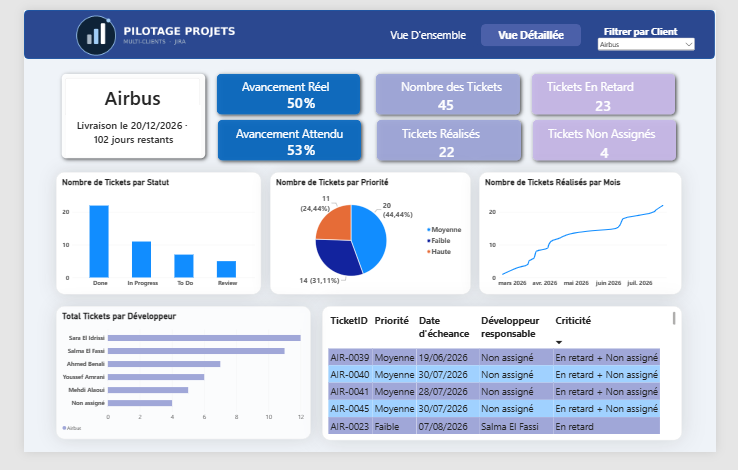

The page's visual inventory and layout, read from the dashboard file:
{"tool":"powerbi","page":{"name":"Vue Détaillée","canvas":[1920,1230],"ordinal":1},"visuals":[{"type":"textbox","box":[1611.9,19,283.3,50],"z":0},{"type":"shape","box":[0,0,1919.4,136.1],"z":1000},{"type":"image","box":[0,2.4,736.1,136.1],"z":2000},{"type":"pageNavigator","box":[982.5,40,565,62.5],"z":3000},{"type":"slicer","fields":{"Values":["Clients.NomClient"]},"box":[1588.1,71.4,278.6,64.3],"z":4000},{"type":"textbox","box":[1611.9,40.5,254.8,45.2],"z":5000},{"type":"shape","box":[88.9,161.1,430.6,266.7],"z":6000},{"type":"card","fields":{"Values":["Min(Clients.NomClient)"]},"box":[113.9,188.9,375,105.4],"z":7000},{"type":"card","fields":{"Values":["Clients.TexteInfoClient"]},"box":[116.7,263.9,375,144.6],"z":8000},{"type":"shape","box":[520,160,430,145],"z":9000},{"type":"shape","box":[960,160,432.5,145],"z":10000},{"type":"shape","box":[1395,160,430,145],"z":11000},{"type":"card","fields":{"Values":["Sum(Clients.AvancementReel)"]},"box":[705,227.5,92.5,62.5],"z":12000},{"type":"card","fields":{"Values":["Tickets.TotalTicketsClient"]},"box":[1077.5,232.5,187.5,62.5],"z":13000},{"type":"card","fields":{"Values":["Tickets.TicketsEnRetard"]},"box":[1517.5,232.5,185,62.5],"z":14000},{"type":"textbox","box":[777.5,232.5,97.5,75],"z":15000},{"type":"textbox","box":[605,190,270,52.5],"z":16000},{"type":"textbox","box":[1047.5,190,307.5,52.5],"z":17000},{"type":"textbox","box":[1452.5,190,332.5,62.5],"z":18000},{"type":"columnChart","title":"Nombre de Tickets par Statut","fields":{"Category":["Tickets.Statut"],"Y":["Tickets.TotalTicketsClient"]},"box":[90,450,570,340],"z":19000},{"type":"shape","box":[522.5,290,430,145],"z":20000},{"type":"shape","box":[962.5,290,432.5,145],"z":21000},{"type":"shape","box":[1397.5,290,430,145],"z":22000},{"type":"card","fields":{"Values":["Sum(Clients.AvancementAttendu)"]},"box":[705,352.5,92.5,72.5],"z":23000},{"type":"card","fields":{"Values":["Tickets.TicketsRealises"]},"box":[1080,362.5,187.5,62.5],"z":24000},{"type":"card","fields":{"Values":["Tickets.TicketsNonAssignes"]},"box":[1520,362.5,185,62.5],"z":25000},{"type":"textbox","box":[587.5,320,310,52.5],"z":26000},{"type":"textbox","box":[1050,320,307.5,52.5],"z":27000},{"type":"textbox","box":[1455,320,332.5,62.5],"z":28000},{"type":"textbox","box":[777.5,362.5,97.5,75],"z":29000},{"type":"pieChart","title":"Nombre de Tickets par Priorité","fields":{"Category":["Tickets.Priorite"],"Y":["Tickets.TotalTicketsClient"]},"box":[682.5,450,557.5,340],"z":30000},{"type":"lineChart","title":"Nombre de Tickets Réalisés par Mois","fields":{"Category":["Tickets.DateCloture"],"Y":["Tickets.Total cumulé de TicketsClotesCumule dans DateCloture"]},"box":[1265,450,562.5,340],"z":31000},{"type":"tableEx","title":"Nombre de Tickets par Statut","fields":{"Values":["Tickets.TicketID","Tickets.Priorite","Tickets.DateEcheance","Tickets.NomDeveloppeurAffiche","Tickets.RaisonAction"]},"box":[827.5,822.5,1000,372.5],"z":32000},{"type":"barChart","title":"Total Tickets par Développeur","fields":{"Category":["Tickets.NomDeveloppeurAffiche"],"Series":["Clients.NomClient"],"Y":["Tickets.TotalTicketsClient"]},"box":[90,822.5,707.5,370],"z":33000}]}

Visuals, with their boxes in screenshot pixels (x1, y1, x2, y2), scaled from the page's 1920x1230 canvas onto the 738x470 screenshot:
textbox: (620, 7, 728, 26)
shape: (0, 0, 737, 52)
image: (0, 1, 283, 53)
pageNavigator: (378, 15, 595, 39)
slicer - Clients.NomClient: (610, 27, 718, 52)
textbox: (620, 15, 718, 33)
shape: (34, 62, 200, 163)
card - Min(Clients.NomClient): (44, 72, 188, 112)
card - Clients.TexteInfoClient: (45, 101, 189, 156)
shape: (200, 61, 365, 117)
shape: (369, 61, 535, 117)
shape: (536, 61, 701, 117)
card - Sum(Clients.AvancementReel): (271, 87, 307, 111)
card - Tickets.TotalTicketsClient: (414, 89, 486, 113)
card - Tickets.TicketsEnRetard: (583, 89, 654, 113)
textbox: (299, 89, 336, 118)
textbox: (233, 73, 336, 93)
textbox: (403, 73, 521, 93)
textbox: (558, 73, 686, 96)
"Nombre de Tickets par Statut" columnChart: (35, 172, 254, 302)
shape: (201, 111, 366, 166)
shape: (370, 111, 536, 166)
shape: (537, 111, 702, 166)
card - Sum(Clients.AvancementAttendu): (271, 135, 307, 162)
card - Tickets.TicketsRealises: (415, 139, 487, 162)
card - Tickets.TicketsNonAssignes: (584, 139, 655, 162)
textbox: (226, 122, 345, 142)
textbox: (404, 122, 522, 142)
textbox: (559, 122, 687, 146)
textbox: (299, 139, 336, 167)
"Nombre de Tickets par Priorité" pieChart: (262, 172, 477, 302)
"Nombre de Tickets Réalisés par Mois" lineChart: (486, 172, 702, 302)
"Nombre de Tickets par Statut" tableEx: (318, 314, 702, 457)
"Total Tickets par Développeur" barChart: (35, 314, 307, 456)
